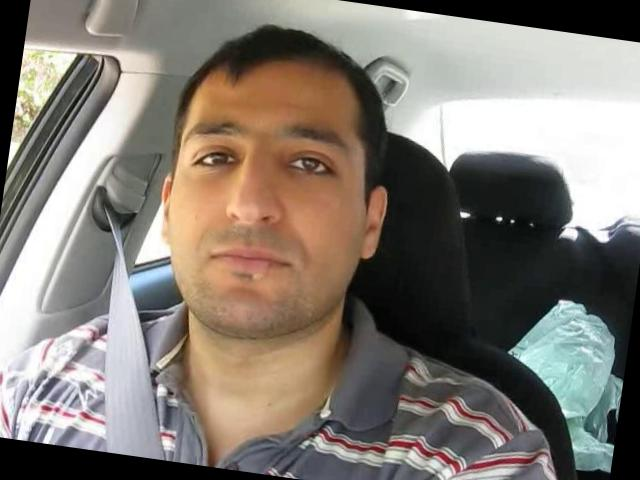eye_open: (281, 144, 341, 188), (186, 139, 242, 180)
face: (142, 92, 366, 349)
